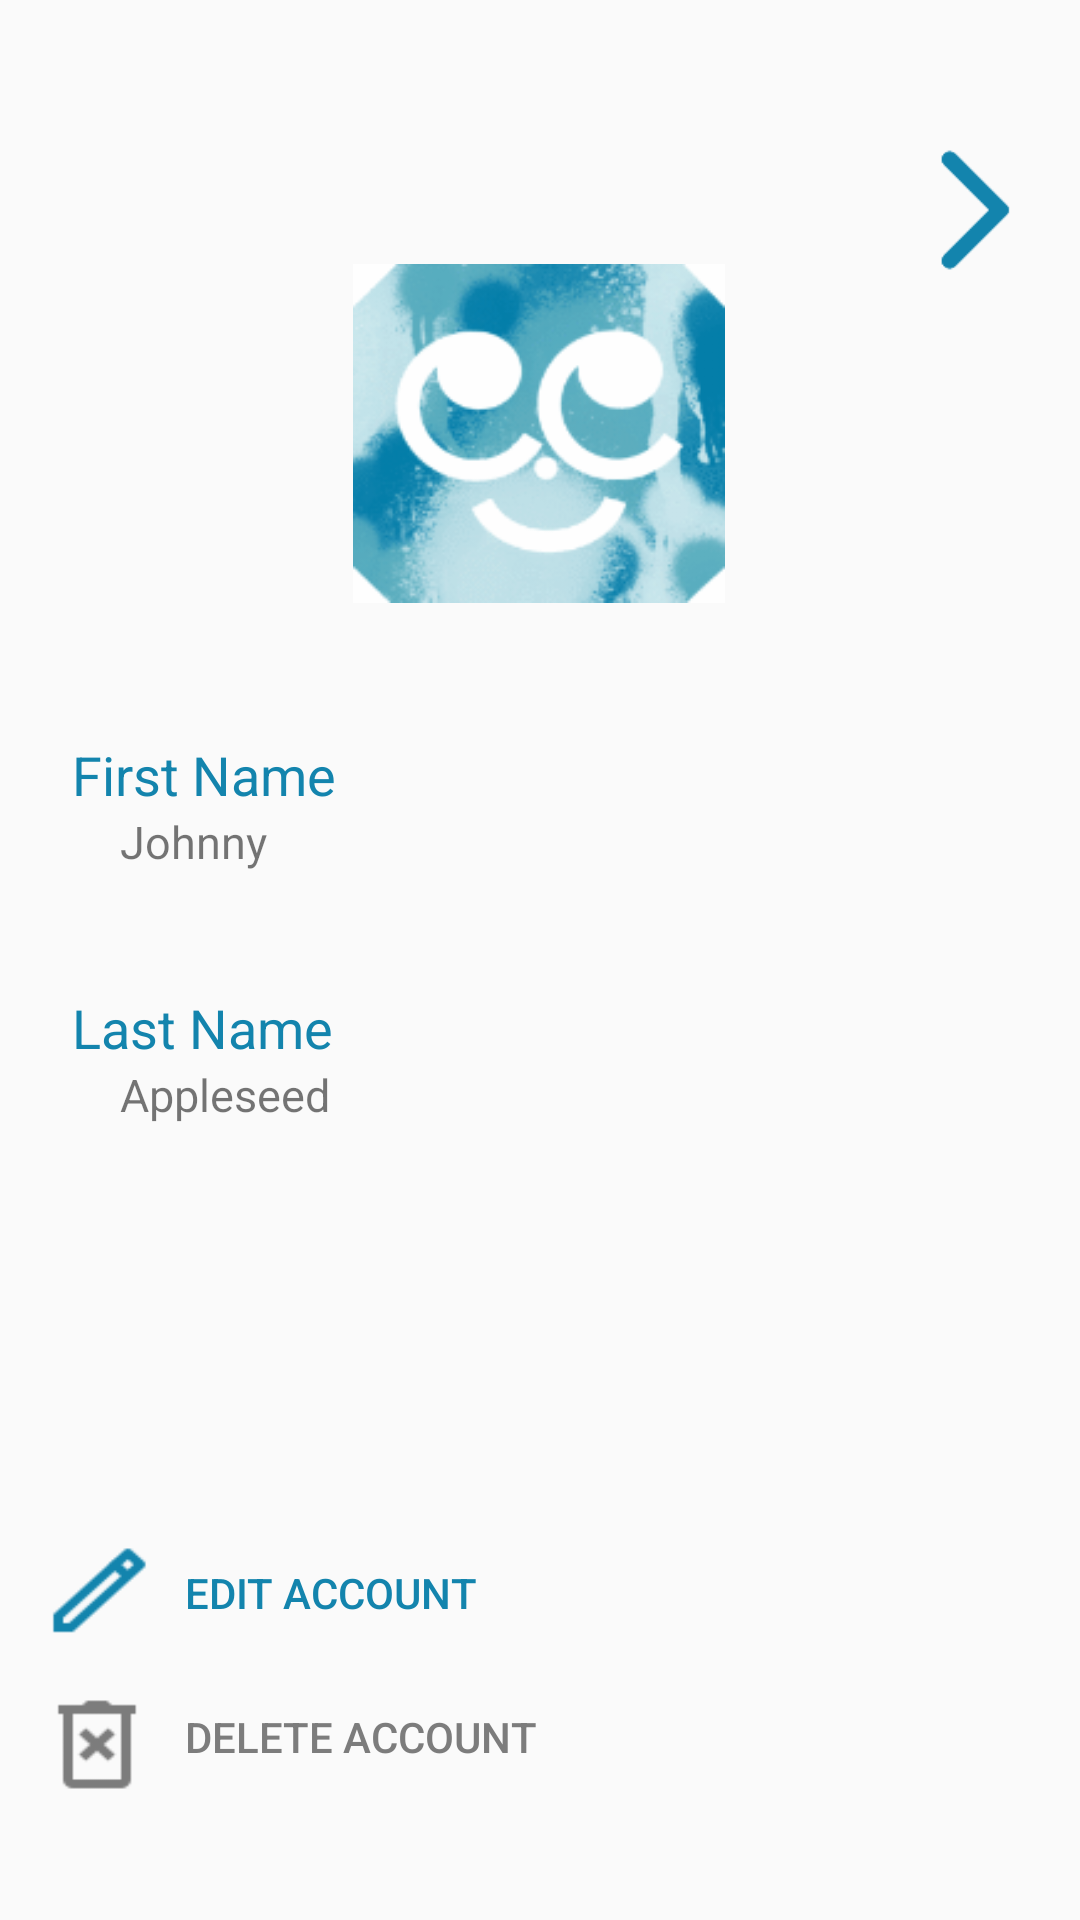

Icon bounding boxes for this 1080×1920 phone screenshot, format BBox(x1, y1, x2, y2):
arrow: BBox(941, 150, 1010, 270)
